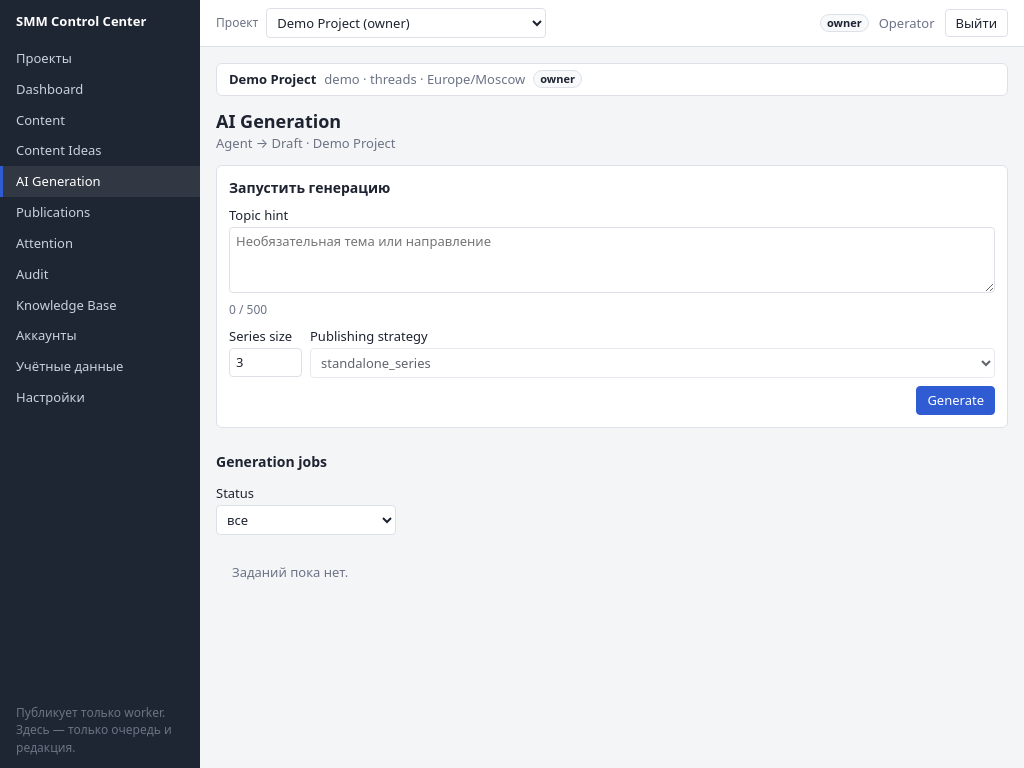
Test: generation jobs page › does not repeat an ambiguous create and tells the owner to check the list
This screenshot has width=1024, height=768.
Click the button "Generate": (956, 400) [916, 386, 995, 414]
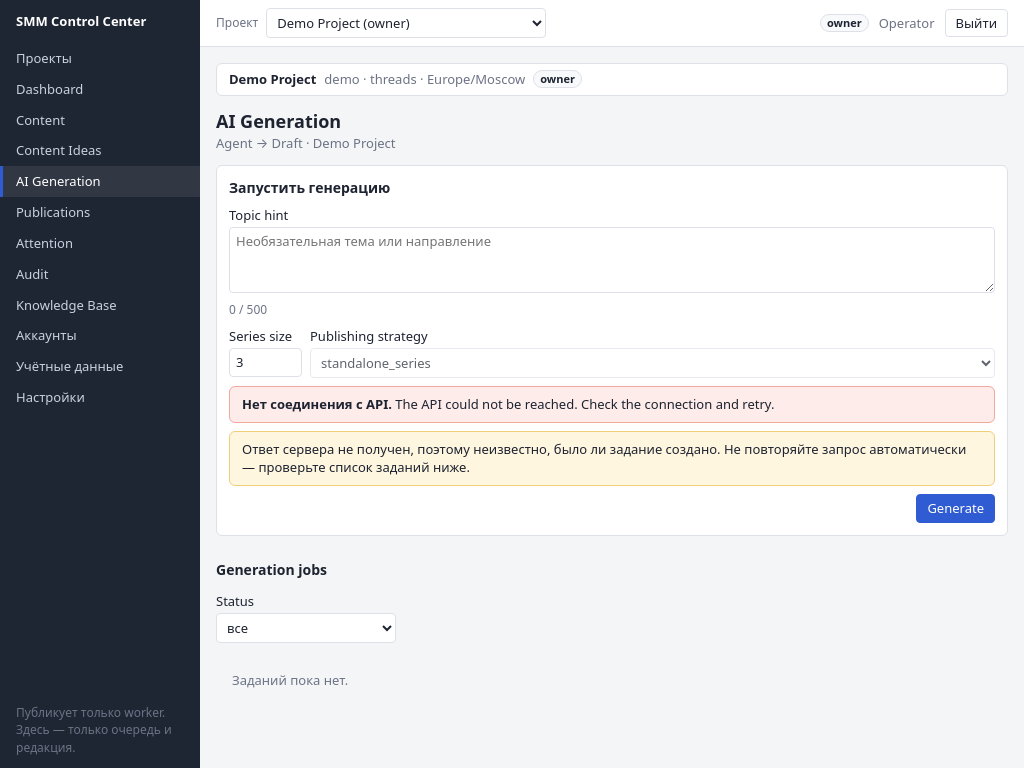
Check: the text "неизвестно, было ли задание создано" is shown, box [242, 440, 966, 476]
